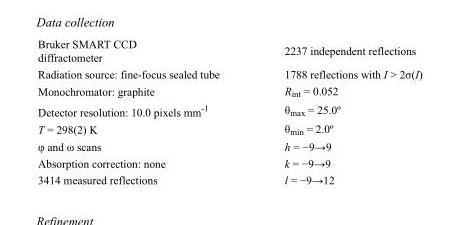table: (37, 37, 421, 185)
table column: (37, 37, 251, 185), (251, 37, 421, 185)
table row: (37, 37, 421, 65), (37, 100, 421, 119), (37, 82, 421, 100), (37, 119, 421, 137), (37, 65, 421, 82), (37, 137, 421, 154), (37, 154, 421, 171), (37, 171, 421, 185)
